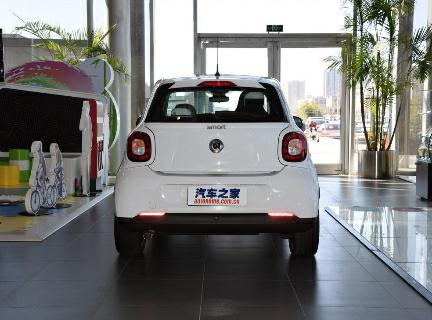smart-forfour: (110, 69, 318, 251)
